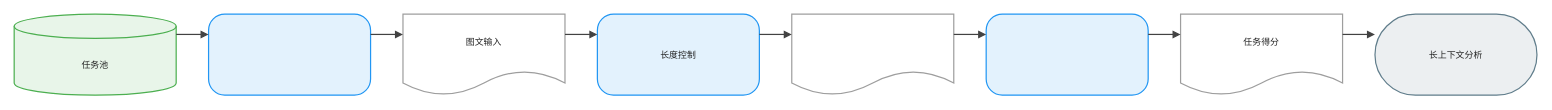
This 1552x110 diagram has some shape labels left out. Here are the shapes that lost their labels. From the top down, the centre of each, then its label:
At pixel 289 54: "五类任务".
At pixel 872 54: "标准输入".
At pixel 1066 54: "LCVLM评测".
